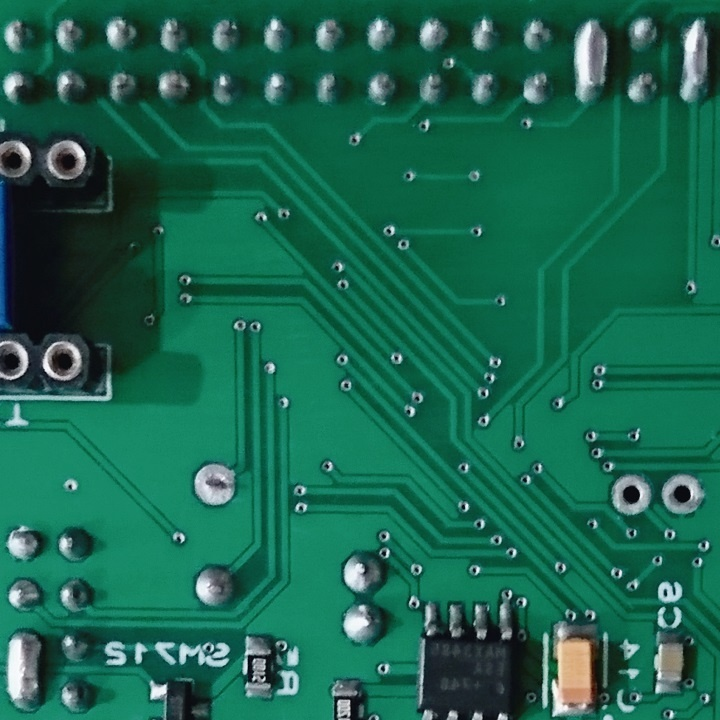F: (659, 469, 706, 520), (606, 472, 655, 520), (190, 462, 238, 510)
P: (4, 623, 47, 718), (570, 15, 611, 110), (676, 12, 713, 110)
